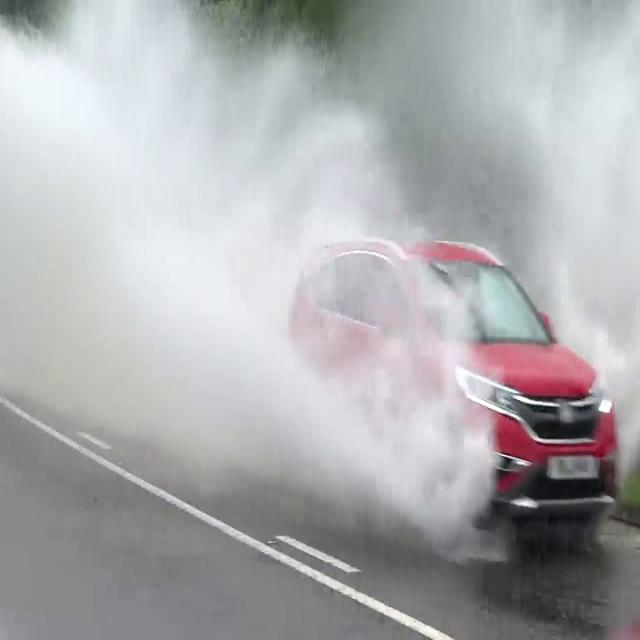license-plate-annotation: (546, 454, 604, 480)
